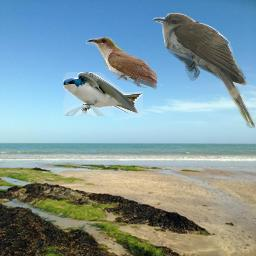Cuckoo: (153, 13, 255, 129), (85, 37, 157, 90)
Swallow: (63, 72, 143, 116)
